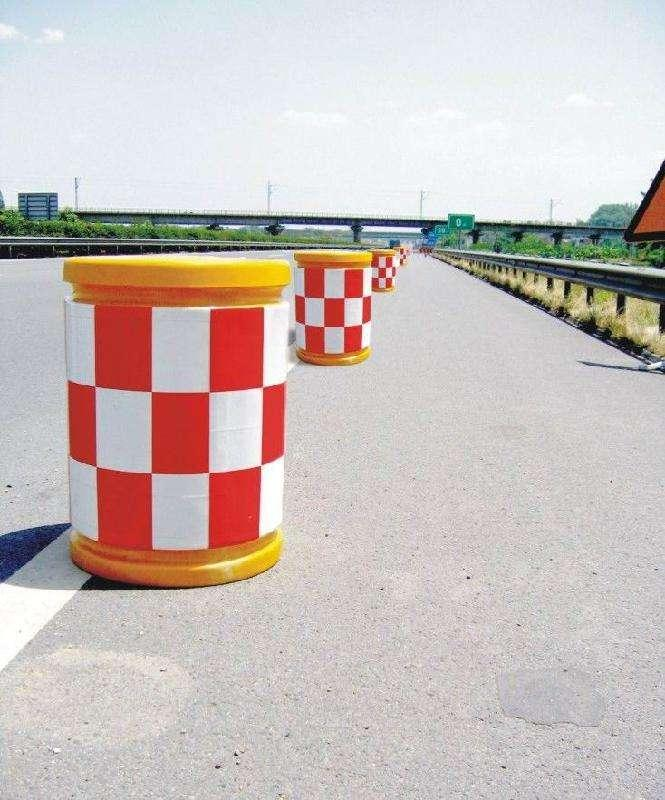sign: (41, 245, 291, 592), (293, 241, 375, 368)
